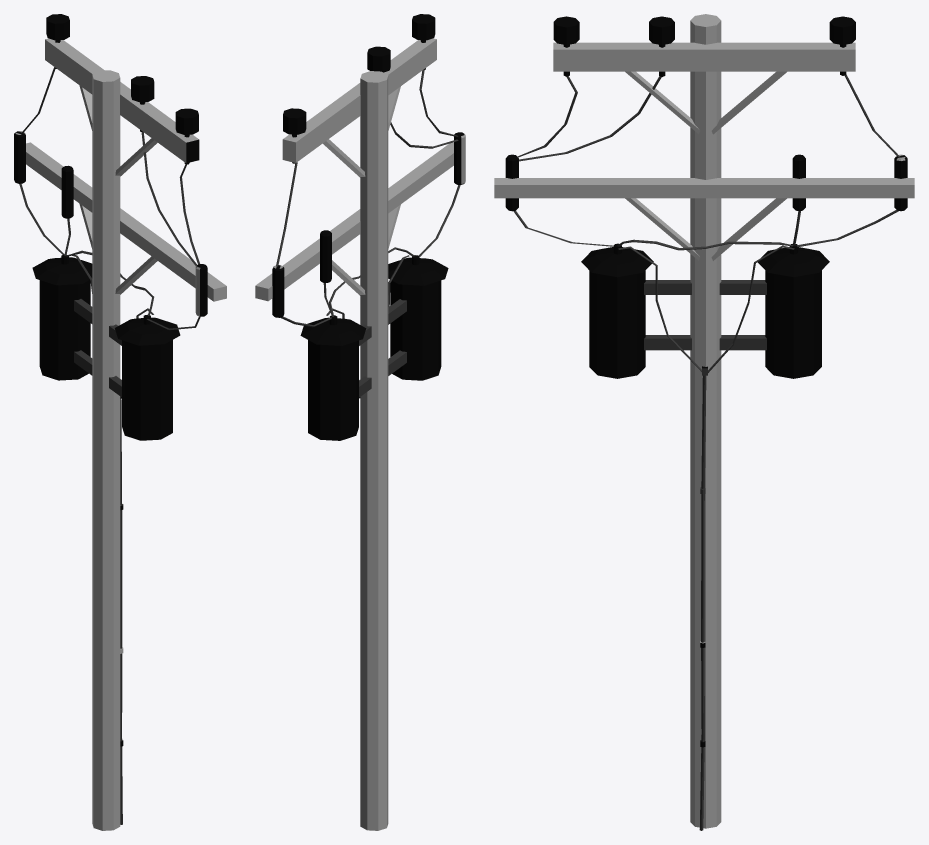
File: accesorie_2.fbx
The picture shows the model from 3 angles, left to right: view 1: azimuth 30°, elevation 25°; view 2: azimuth 150°, elevation 25°; view 3: azimuth 270°, elevation 25°; orthographic projection. The views are drawn at different scales.
Parts seen in each view (by area): view 1: Power_poles; view 2: Power_poles; view 3: Power_poles.
Part boxes in pixels (<box>): Power_poles: <box>14,14,226,830</box>; Power_poles: <box>255,14,465,830</box>; Power_poles: <box>494,14,914,830</box>.
Size of the model in its own units: 41.21 by 505 by 238.
Materials: 3 (1 with a texture image).
